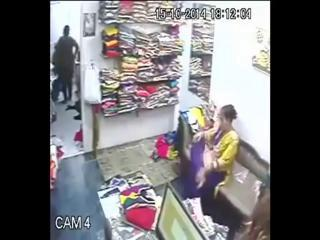Normal: (180, 104, 240, 208), (52, 25, 79, 104)
